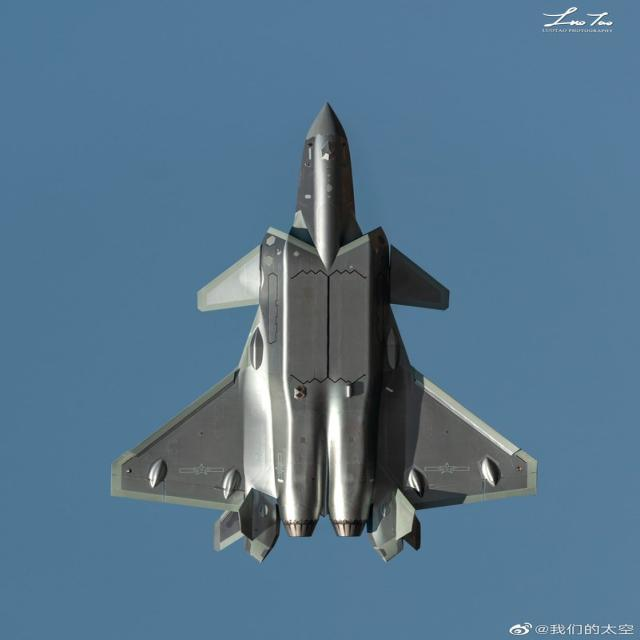MIL_Plane: (109, 98, 537, 562)
